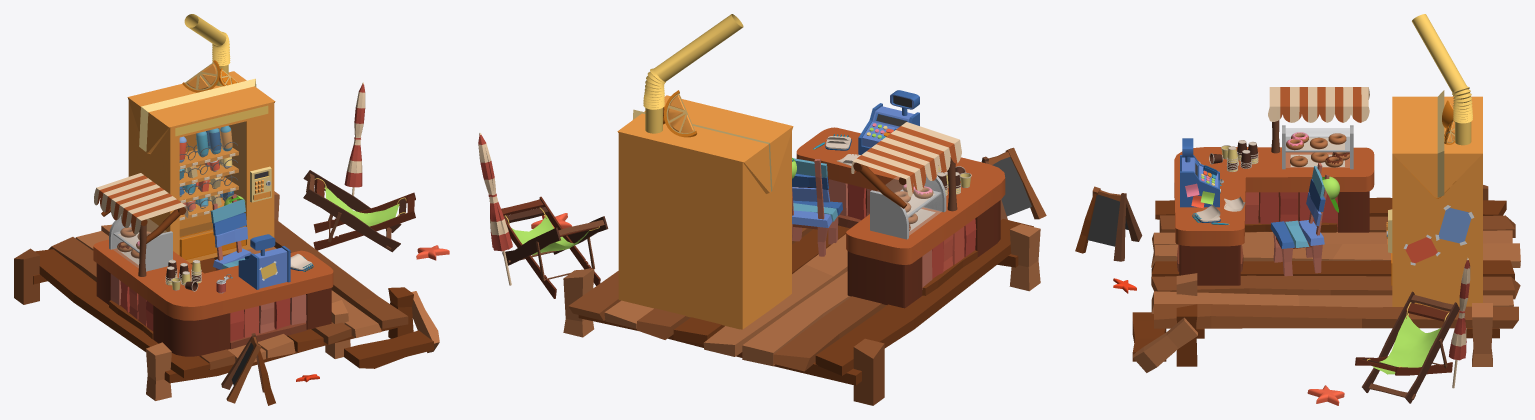
Rendered from object_cafe_beach.glb.
3 renders of one model, left to right at view 1: azimuth 30°, elevation 25°; view 2: azimuth 150°, elevation 25°; view 3: azimuth 270°, elevation 25°, orthographic. The views are drawn at different scales.
Parts seen in each view (by area): view 1: Cube.024, Cube.091, Cube.059_Material2.001_0, Cube.059_Material2.003_0, Cube.006, Plane.012, Cube.003, Cube.005, Cube.004, Cube.059_Material2.002_0, Cube.010, Cube.067_Material2.003_0 (+36 smaller); view 2: Cube.024, Cube.059_Material2.002_0, Cube.059_Material2.003_0, Cube.059_Material2.001_0, Plane.012, Cube.010, Cube.007, Circle.001, Cube.006, Cube.070, Cube.062_Material2.001_0, Cube.063_Material2.002_0 (+20 smaller); view 3: Cube.024, Cube.059_Material2.001_0, Cube.059_Material2.002_0, Cube.059_Material2.003_0, Cube.010, Plane.012, Cube.006, Cube_Material3.005_0, Cube.009, Cube.025, Circle.001, Plane.010 (+25 smaller).
Boxes of the visible parts, bbox=[...] form: Cube.024: bbox=[128, 71, 274, 263]; Cube.091: bbox=[180, 122, 245, 236]; Cube.059_Material2.001_0: bbox=[48, 218, 408, 370]; Cube.059_Material2.003_0: bbox=[35, 249, 323, 378]; Cube.006: bbox=[202, 250, 333, 310]; Plane.012: bbox=[94, 173, 188, 234]; Cube.003: bbox=[153, 305, 230, 356]; Cube.005: bbox=[147, 276, 238, 320]; Cube.004: bbox=[230, 294, 306, 341]; Cube.059_Material2.002_0: bbox=[75, 224, 381, 362]; Cube.010: bbox=[93, 239, 206, 300]; Cube.067_Material2.003_0: bbox=[344, 330, 433, 368]; Cube.024: bbox=[618, 95, 791, 329]; Cube.059_Material2.002_0: bbox=[604, 187, 851, 366]; Cube.059_Material2.003_0: bbox=[673, 219, 1033, 375]; Cube.059_Material2.001_0: bbox=[568, 228, 886, 371]; Plane.012: bbox=[851, 122, 961, 196]; Cube.010: bbox=[846, 189, 980, 264]; Cube.007: bbox=[847, 251, 922, 308]; Circle.001: bbox=[643, 14, 743, 109]; Cube.006: bbox=[796, 127, 902, 192]; Cube.070: bbox=[870, 174, 946, 239]; Cube.062_Material2.001_0: bbox=[853, 338, 884, 405]; Cube.063_Material2.002_0: bbox=[1009, 224, 1040, 291]; Cube.024: bbox=[1392, 97, 1482, 306]; Cube.059_Material2.001_0: bbox=[1151, 215, 1520, 328]; Cube.059_Material2.002_0: bbox=[1151, 230, 1520, 313]; Cube.059_Material2.003_0: bbox=[1151, 197, 1514, 279]; Cube.010: bbox=[1241, 147, 1374, 192]; Plane.012: bbox=[1268, 87, 1369, 122]; Cube.006: bbox=[1174, 174, 1245, 246]; Cube_Material3.005_0: bbox=[1179, 245, 1240, 285]; Cube.009: bbox=[1245, 192, 1337, 230]; Cube.025: bbox=[1392, 96, 1482, 198]; Circle.001: bbox=[1412, 14, 1472, 123]; Plane.010: bbox=[1372, 315, 1441, 374].
Bounding box in the file's own units: 98.66 × 71.53 × 96.92.
